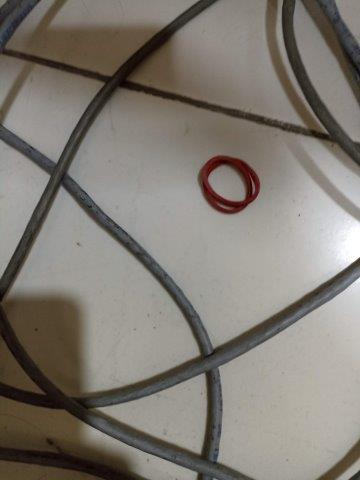karet: (198, 155, 261, 214)
